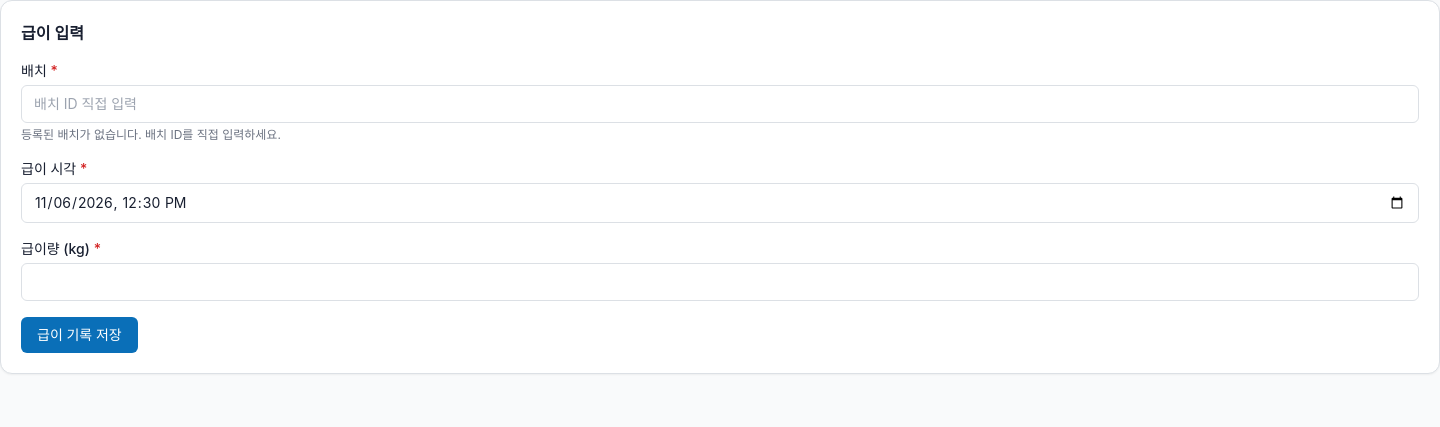
FeedLogForm 검증 › feed_kg<=0 이면 제출을 거부하고 오류를 표시한다
Type "batch_1" into the field with placeholder "배치 ID 직접 입력".
click(720, 104); type("batch_1")  # box [21,85,1419,123]
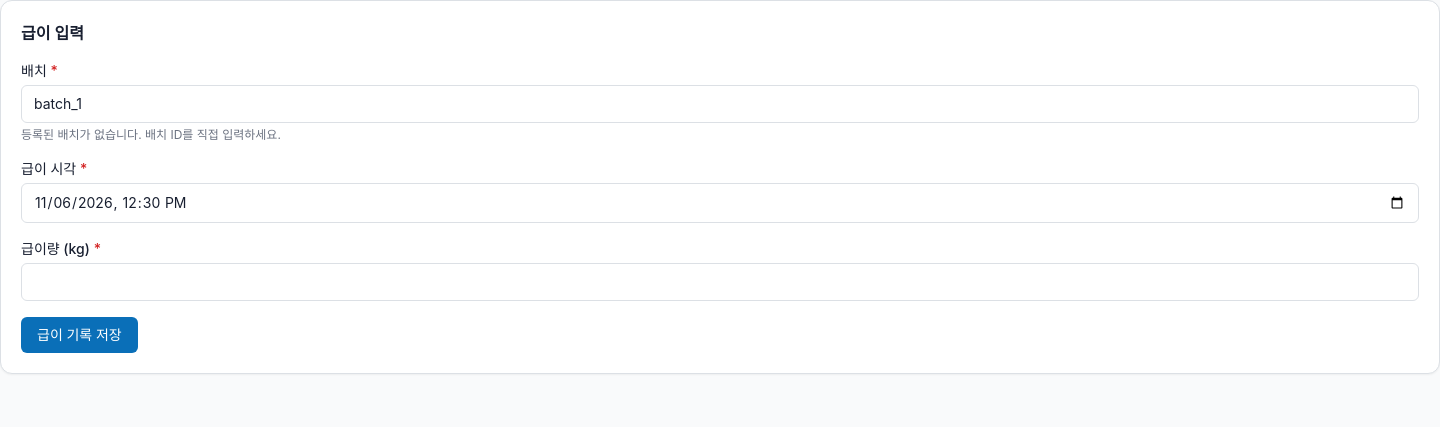
// 급이량 0 입력
Type "0" into the number field labelled "급이량 (kg) *".
click(720, 282); type("0")  # box [21,263,1419,301]
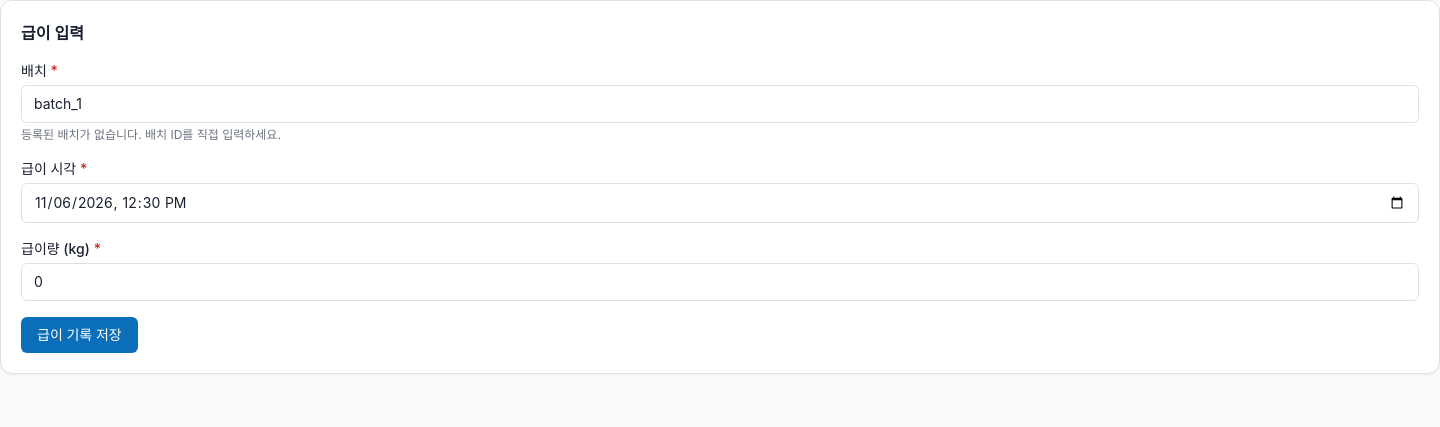
Click the button "급이 기록 저장".
click(79, 335)  # box [21,317,138,353]
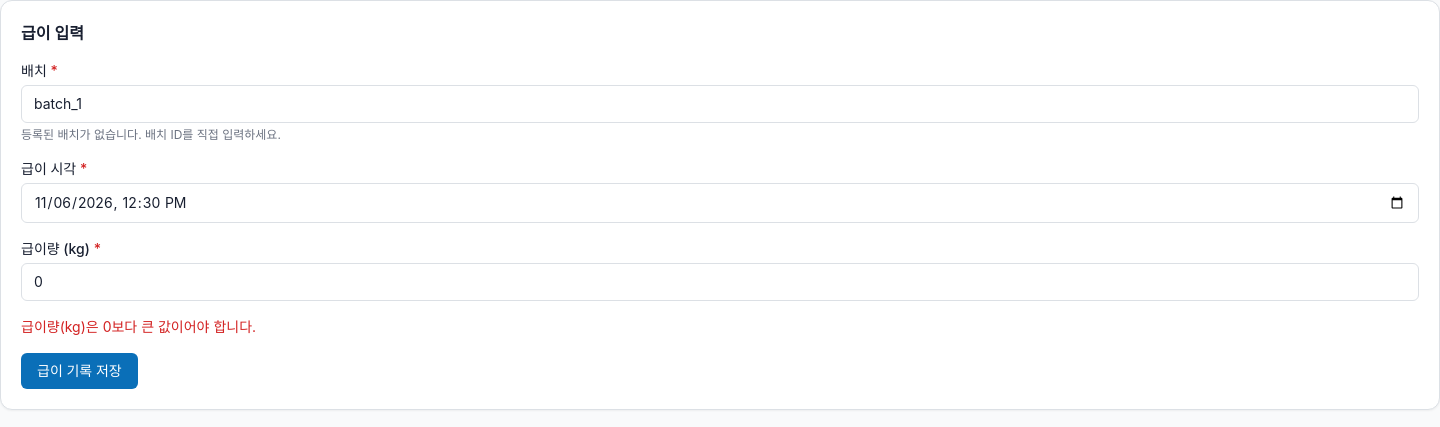
Check: the text "급이량(kg)은 0보다 큰 값이어야 합니다." is shown, box [21,318,256,335]
